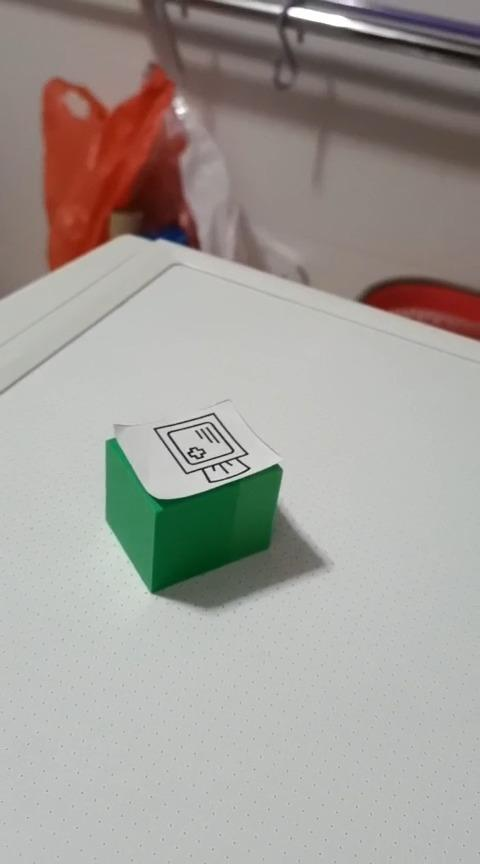Gauze: (103, 397, 284, 594)
